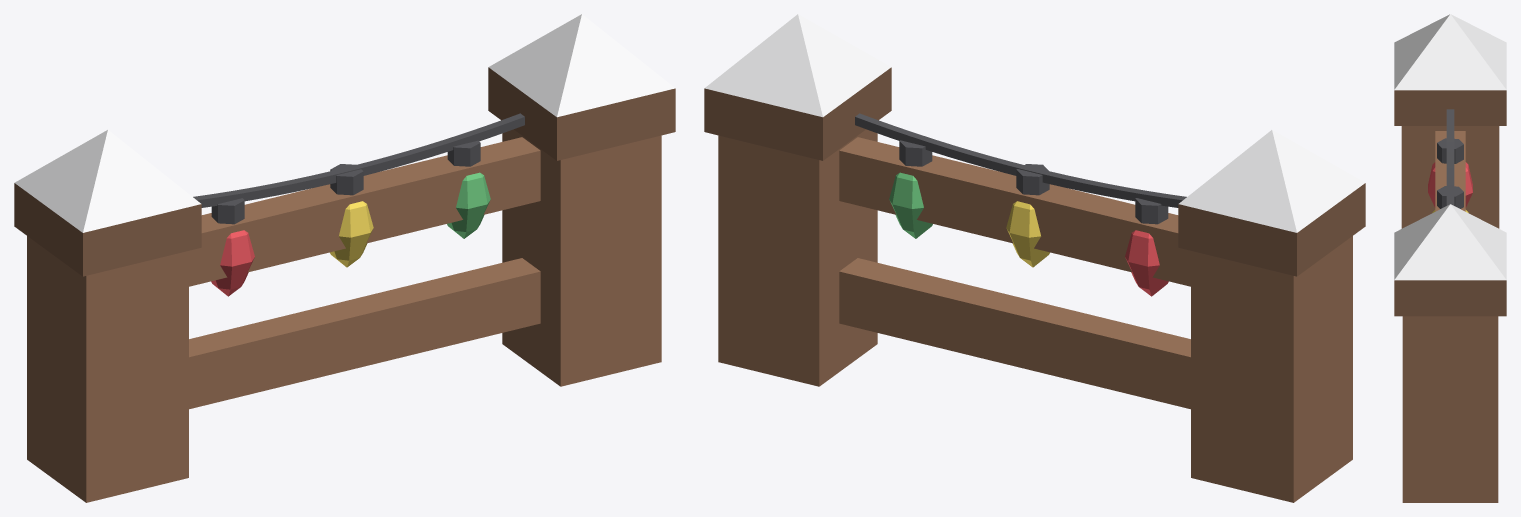
The model's file is Fence.glb.
The picture shows the model from 3 angles, left to right: view 1: azimuth 30°, elevation 25°; view 2: azimuth 150°, elevation 25°; view 3: azimuth 270°, elevation 25°; orthographic projection. The views are drawn at different scales.
Visible parts, largest first — view 1: Wood, Snow, WoodDark, Wire, Yellow, Green, Red; view 2: Wood, Snow, WoodDark, Wire, Yellow, Green, Red; view 3: Wood, Snow, WoodDark, Wire, Red.
Boxes of the visible parts, box(x1,y1,x2,y2) form: Wood: box(27, 129, 661, 502); Snow: box(14, 14, 675, 232); WoodDark: box(14, 67, 675, 276); Wire: box(193, 113, 524, 224); Yellow: box(330, 201, 373, 267); Green: box(447, 172, 490, 238); Red: box(211, 230, 254, 296); Wood: box(718, 129, 1352, 502); Snow: box(704, 14, 1365, 232); WoodDark: box(704, 67, 1365, 276); Wire: box(855, 113, 1186, 224); Yellow: box(1006, 201, 1049, 267); Green: box(889, 172, 932, 238); Red: box(1125, 230, 1168, 296); Wood: box(1401, 126, 1499, 502); Snow: box(1394, 14, 1506, 280); WoodDark: box(1394, 90, 1506, 316); Wire: box(1437, 109, 1463, 208); Red: box(1428, 162, 1472, 207).
Bounding box in the file's own units: 1.25 × 0.6836 × 0.2504.
